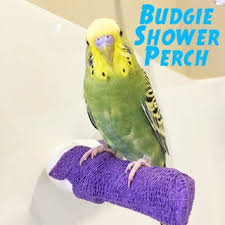budgie: (78, 17, 169, 180)
